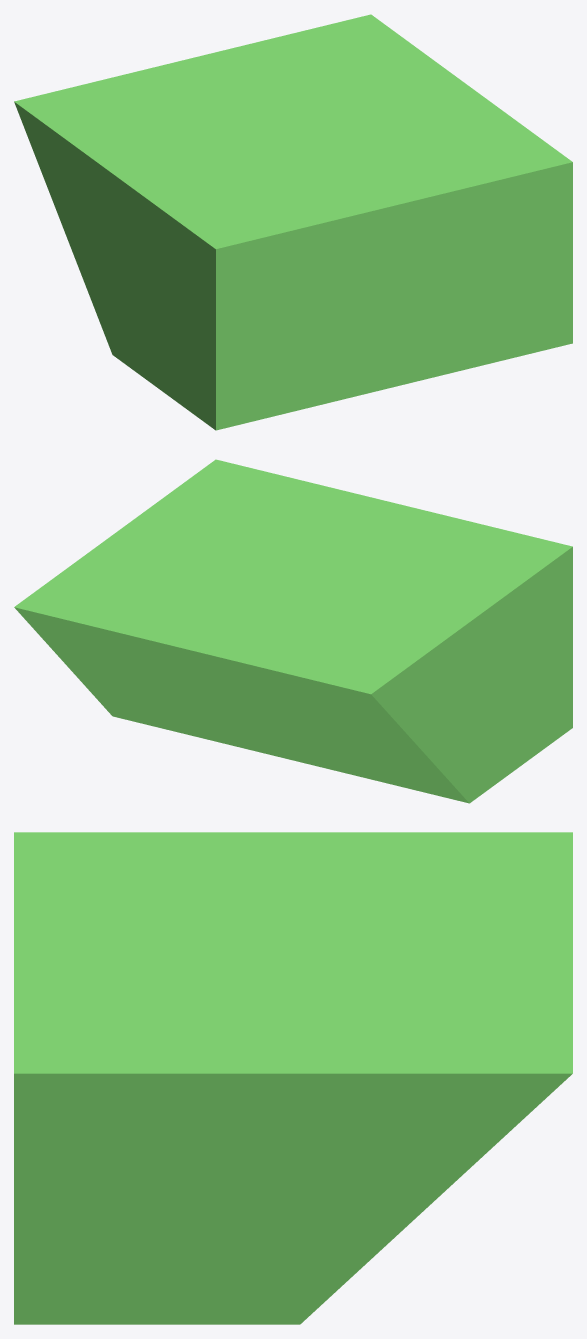
The model's file is sm_Collider11.fbx.
The picture shows the model from 3 angles, top to bottom: view 1: azimuth 30°, elevation 25°; view 2: azimuth 150°, elevation 25°; view 3: azimuth 270°, elevation 25°; orthographic projection. The views are drawn at different scales.
Parts seen in each view (by area): view 1: sm_Collider.011; view 2: sm_Collider.011; view 3: sm_Collider.011.
Boxes of the visible parts, x1=… form: sm_Collider.011: x1=14, y1=14, x2=572, y2=430; sm_Collider.011: x1=14, y1=459, x2=572, y2=803; sm_Collider.011: x1=14, y1=832, x2=572, y2=1324.
Size of the model in its own units: 251 by 122 by 246.
